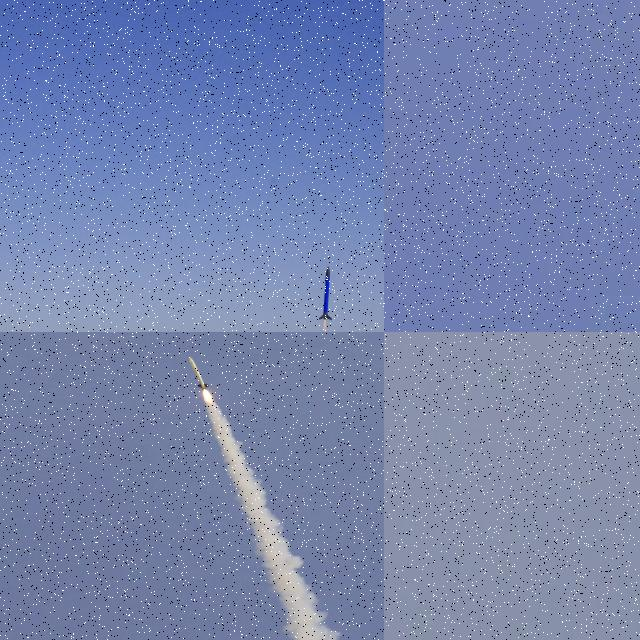Rocket: (319, 266, 332, 321), (189, 357, 209, 391)
